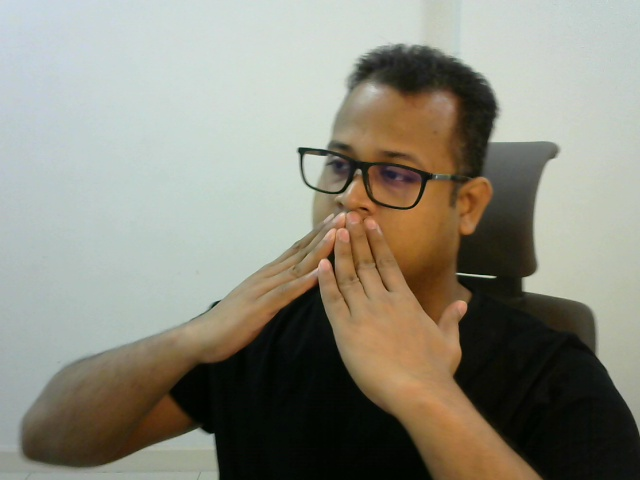ThankYou: (204, 211, 469, 407)
